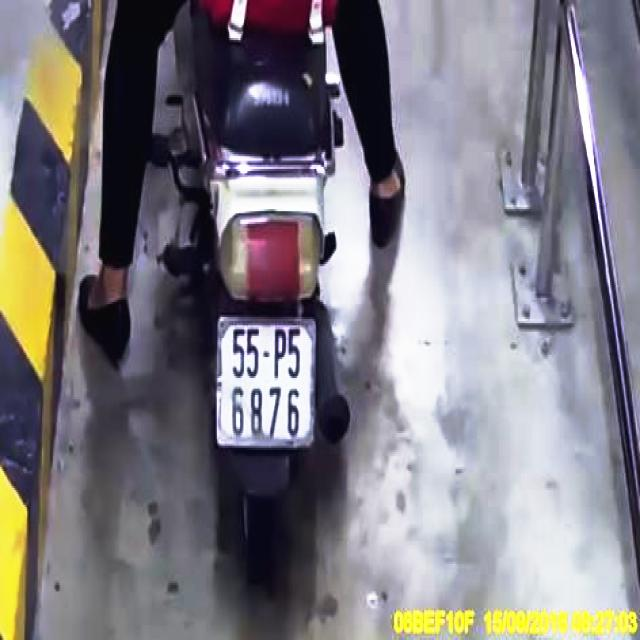license_plate: (219, 317, 315, 448)
